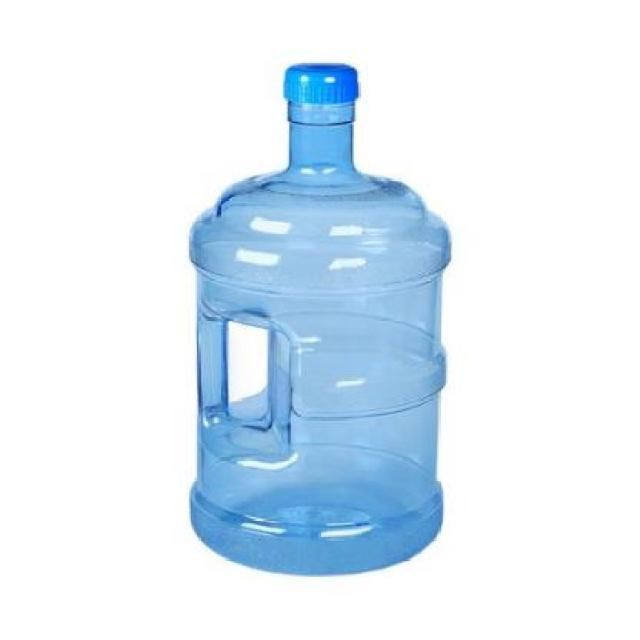coolerbottle: (184, 59, 456, 582)
